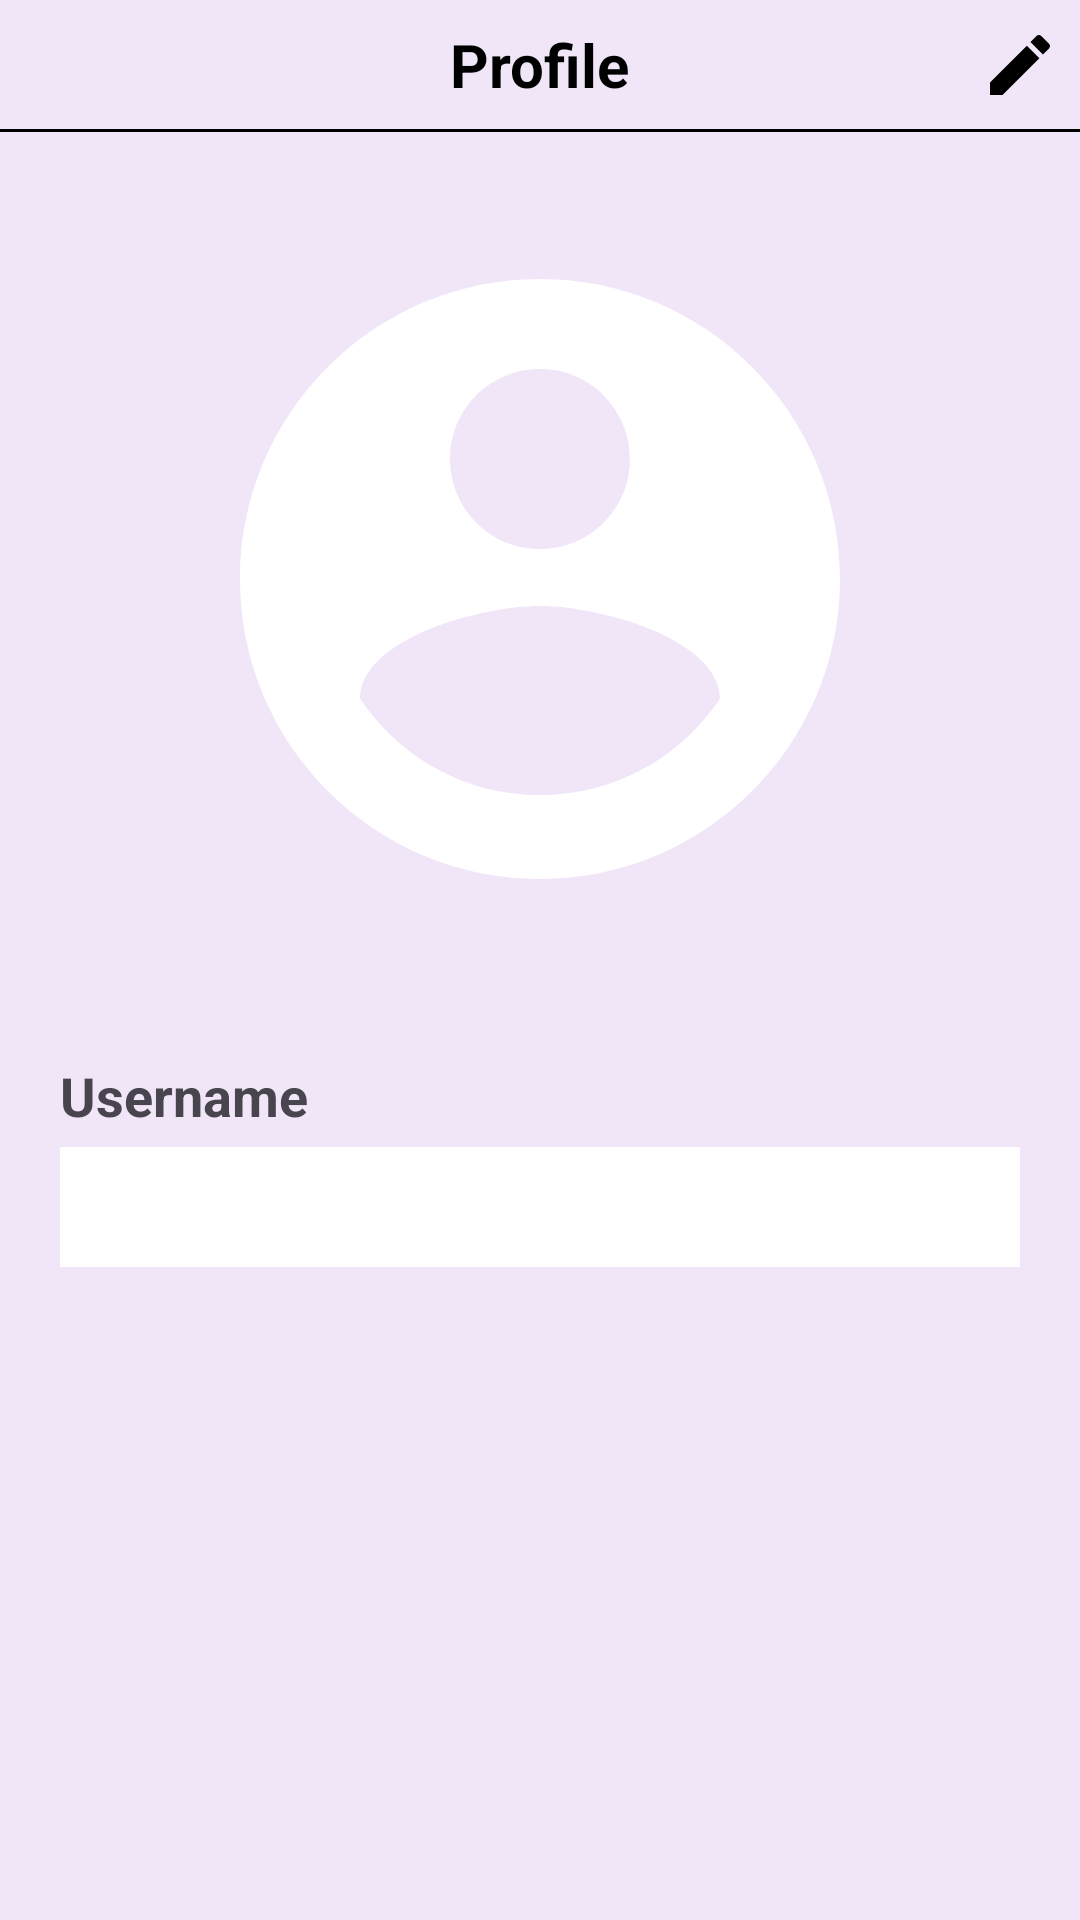

Screen size 1080px x 1920px. Icon name, then its box in pixels as box=[x1, y1, x2, y2]:
edit: box=[990, 35, 1050, 95]
